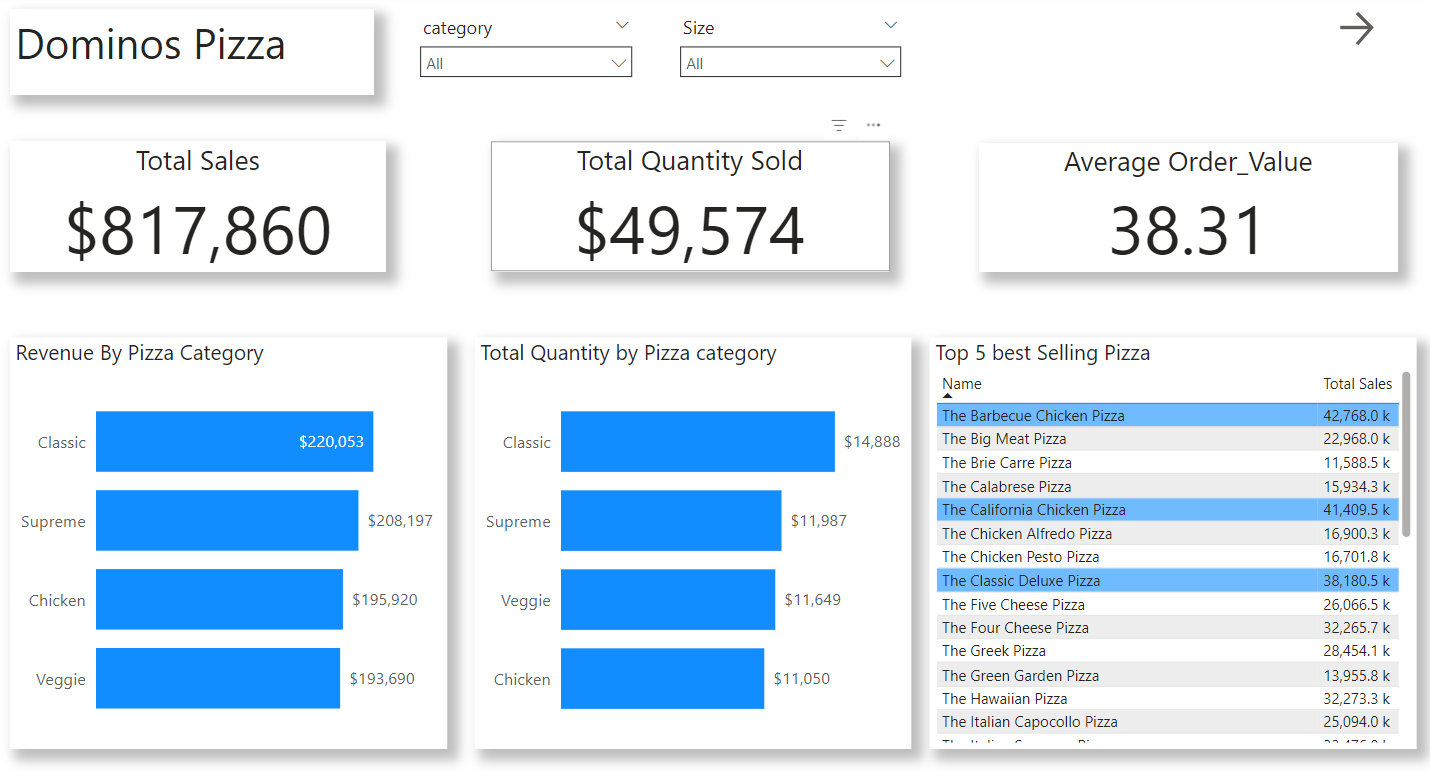

Layout of this report page (visuals, bound fields, positions):
{"tool":"powerbi","page":{"name":"Top Selling pizza","canvas":[1280,720],"ordinal":0},"visuals":[{"type":"shape","box":[11.8,11.8,355.7,76.8],"z":0},{"type":"textbox","box":[11.8,11.8,324.7,76.8],"z":1000},{"type":"card","title":"Total Sales","fields":{"Values":["Calculations.Total Sales"]},"box":[11.8,129.9,335.1,116.6],"z":2000},{"type":"card","title":"Total Quantity Sold","fields":{"Values":["Calculations.Total Quantity"]},"box":[441.3,129.9,354.2,116.6],"z":3000},{"type":"barChart","title":"Total Quantity by  Pizza category","fields":{"Category":["pizza_types.category"],"Y":["Calculations.Total Quantity"]},"box":[426.7,304.9,388.5,366.4],"z":4000},{"type":"barChart","title":"Revenue By Pizza Category","fields":{"Y":["Calculations.Total Revenue per Pizza Type"],"Category":["pizza_types.category"]},"box":[11.8,305.5,389.7,366.1],"z":6000},{"type":"slicer","fields":{"Values":["pizza_types.category"]},"box":[367.5,11.8,209.6,76.8],"z":7000},{"type":"card","title":"Average Order_Value","fields":{"Values":["Calculations.Average Order_Value"]},"box":[875.3,131.4,373.4,115.1],"z":8000},{"type":"actionButton","box":[1191.1,10.3,73.8,39.9],"z":9000},{"type":"tableEx","title":"Top 5 best Selling Pizza","fields":{"Values":["pizza_types.name","Calculations.Total Sales Dax"]},"box":[831,305.5,433.9,366.1],"z":10000},{"type":"slicer","fields":{"Values":["Pizza Merge.size"]},"box":[598.8,12.3,217.2,72.4],"z":10001}]}

Visuals, with their boxes on the page's 1280x720 design canvas (x1, y1, x2, y2). These are canvas units, not pixel positions in the 1430x773 screenshot, which may show the page scaled, cropped or inside an application window:
shape: [x1=12, y1=12, x2=368, y2=89]
textbox: [x1=12, y1=12, x2=336, y2=89]
"Total Sales" card: [x1=12, y1=130, x2=347, y2=246]
"Total Quantity Sold" card: [x1=441, y1=130, x2=796, y2=246]
"Total Quantity by  Pizza category" barChart: [x1=427, y1=305, x2=815, y2=671]
"Revenue By Pizza Category" barChart: [x1=12, y1=306, x2=402, y2=672]
slicer - pizza_types.category: [x1=368, y1=12, x2=577, y2=89]
"Average Order_Value" card: [x1=875, y1=131, x2=1249, y2=246]
actionButton: [x1=1191, y1=10, x2=1265, y2=50]
"Top 5 best Selling Pizza" tableEx: [x1=831, y1=306, x2=1265, y2=672]
slicer - Pizza Merge.size: [x1=599, y1=12, x2=816, y2=85]
